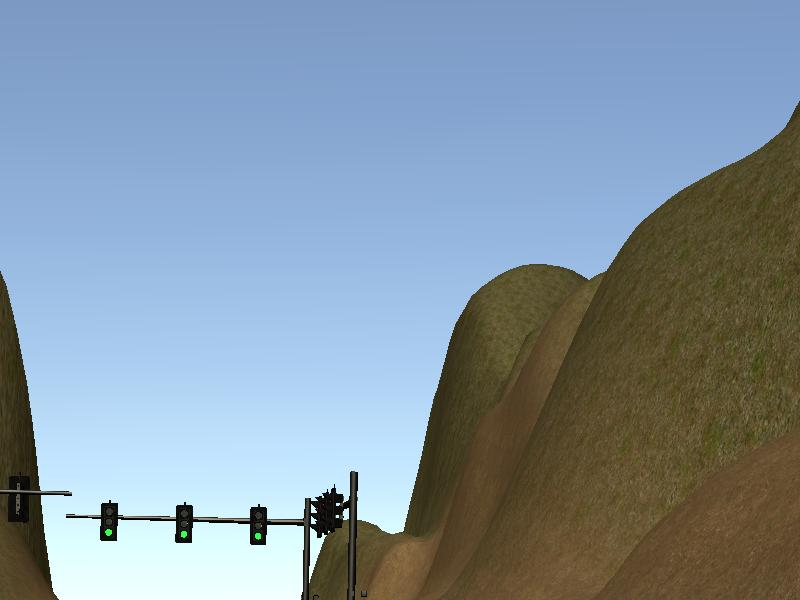Green: (176, 504, 192, 542), (251, 508, 266, 545), (102, 503, 116, 541)
